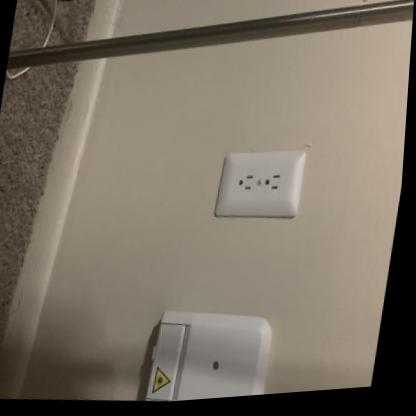OUTLET: (213, 141, 308, 221)
